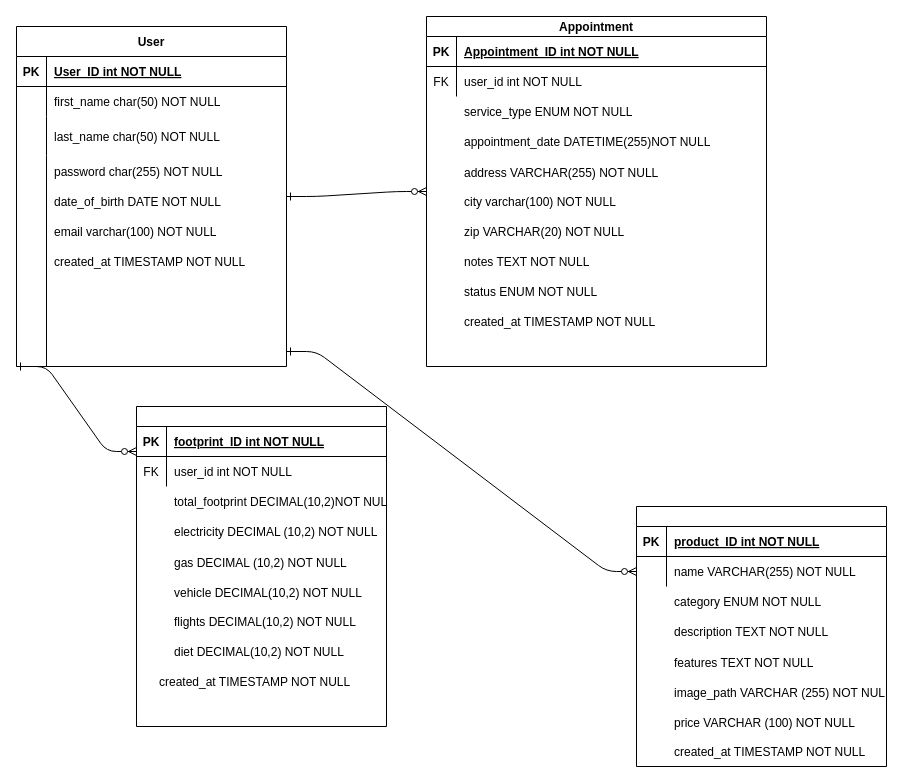
Image size: 908x783. Some labels were removed from this diagram. Here are the shapes that lost their labels. From the top down, the box of each, then its label:
(136, 406, 386, 726): carbon_footprints
(636, 506, 886, 766): Products
